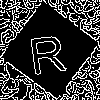R: (25, 25, 68, 75)
